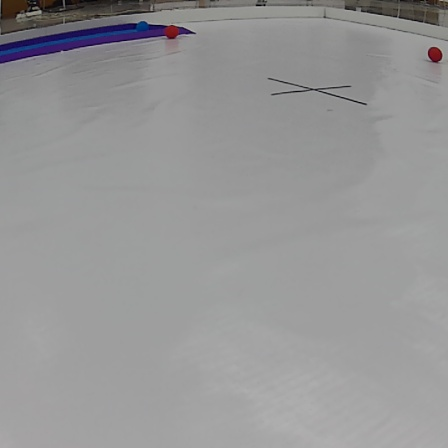blue: (136, 20, 149, 32)
blue_aim: (3, 17, 202, 66)
red: (426, 46, 445, 63), (165, 23, 179, 40)
